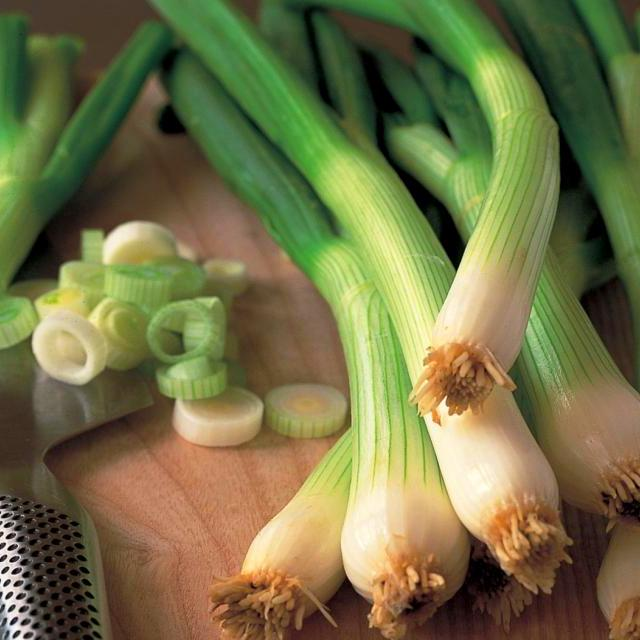green_onion: (168, 50, 470, 640), (149, 0, 456, 382), (399, 0, 559, 421), (495, 0, 640, 389), (0, 13, 172, 295), (423, 376, 571, 608), (517, 252, 640, 521), (425, 386, 571, 592), (210, 430, 353, 640), (377, 50, 491, 239), (599, 526, 640, 640), (311, 0, 409, 23)
